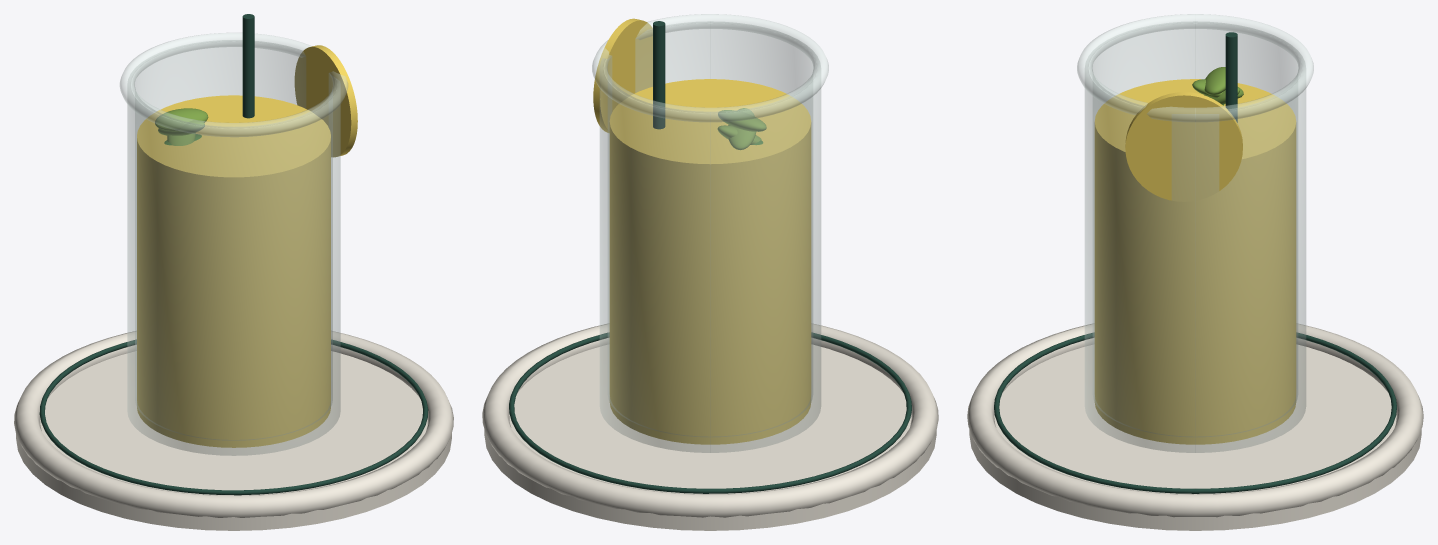
Rendered from lemonade-regular.glb.
3 views of the same model, side by side, from view 1: azimuth 30°, elevation 25°; view 2: azimuth 150°, elevation 25°; view 3: azimuth 270°, elevation 25° (orthographic). The views are drawn at different scales.
Visible parts, largest first — view 1: Morsel original lemonade regular, leaf; view 2: Morsel original lemonade regular, leaf; view 3: Morsel original lemonade regular.
Boxes of the visible parts, x1,y1,x2,y2 form: Morsel original lemonade regular: [14, 14, 453, 530]; leaf: [155, 108, 208, 131]; Morsel original lemonade regular: [482, 14, 938, 530]; leaf: [718, 110, 766, 131]; Morsel original lemonade regular: [967, 14, 1423, 530].
Size of the model in its own units: 2.02 by 2.04 by 2.02.
